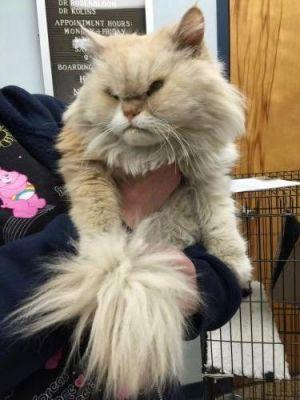persian: (63, 1, 228, 183)
